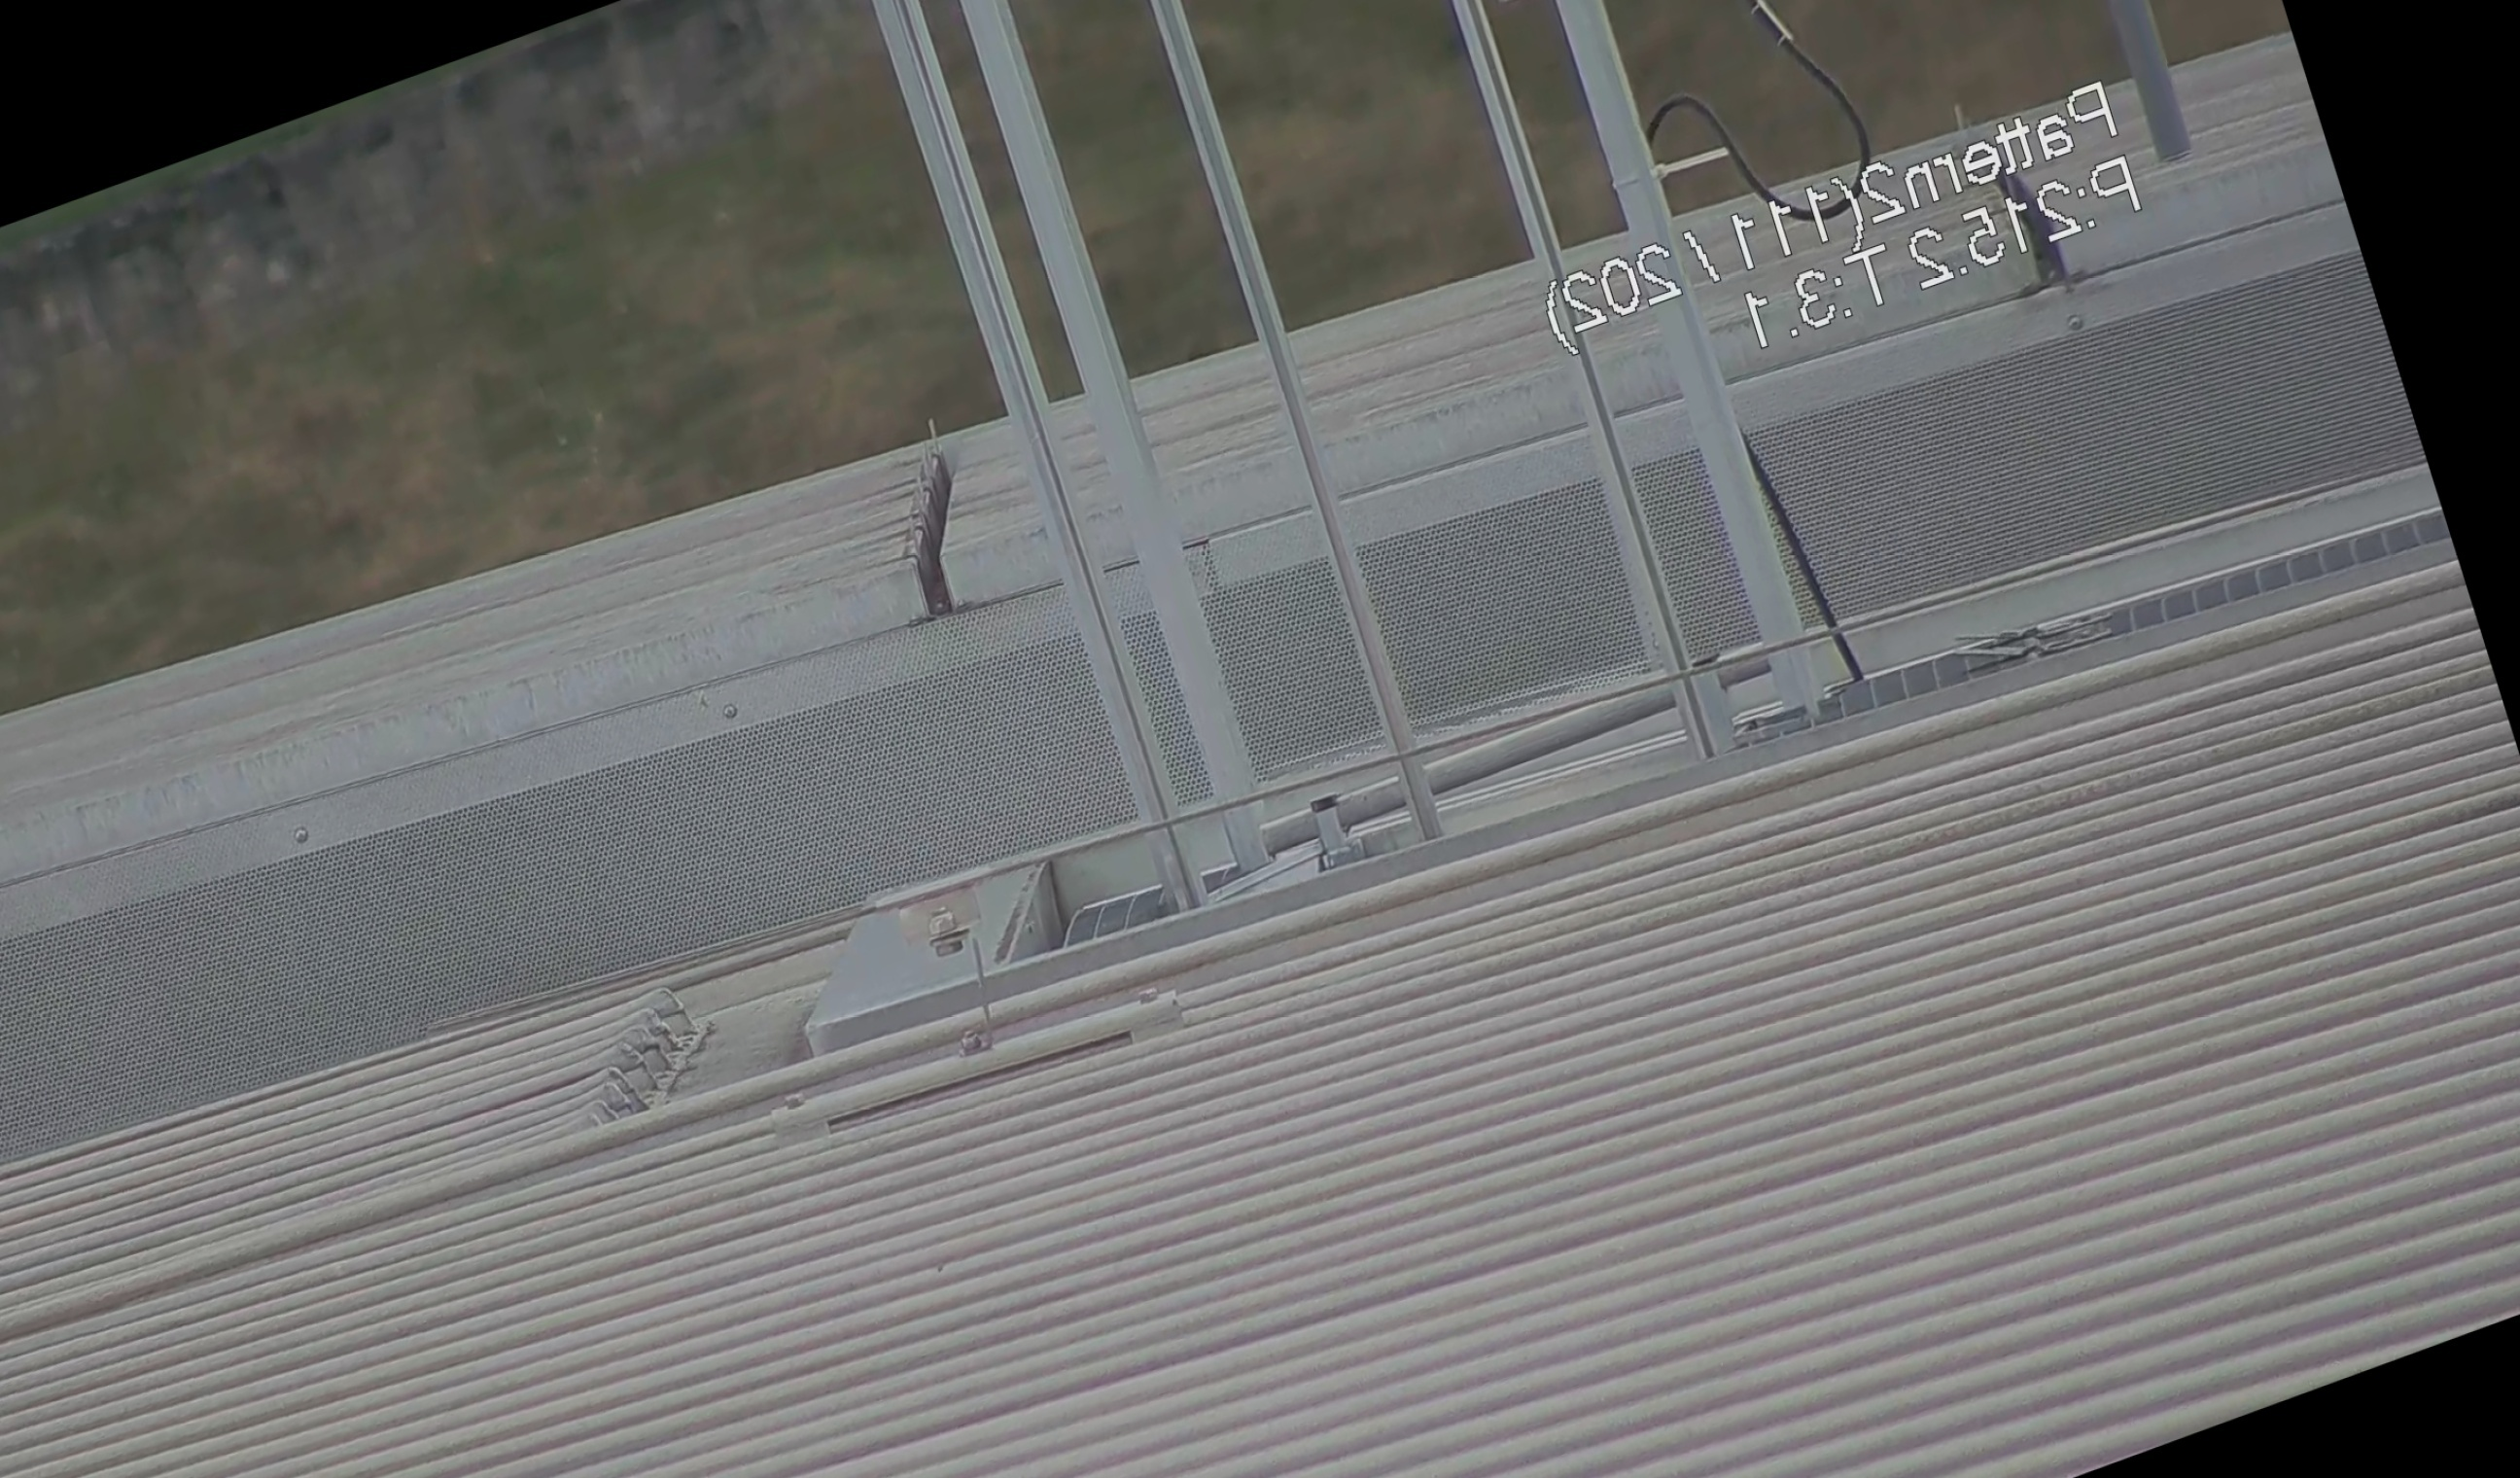Other: (863, 413, 1015, 630)
